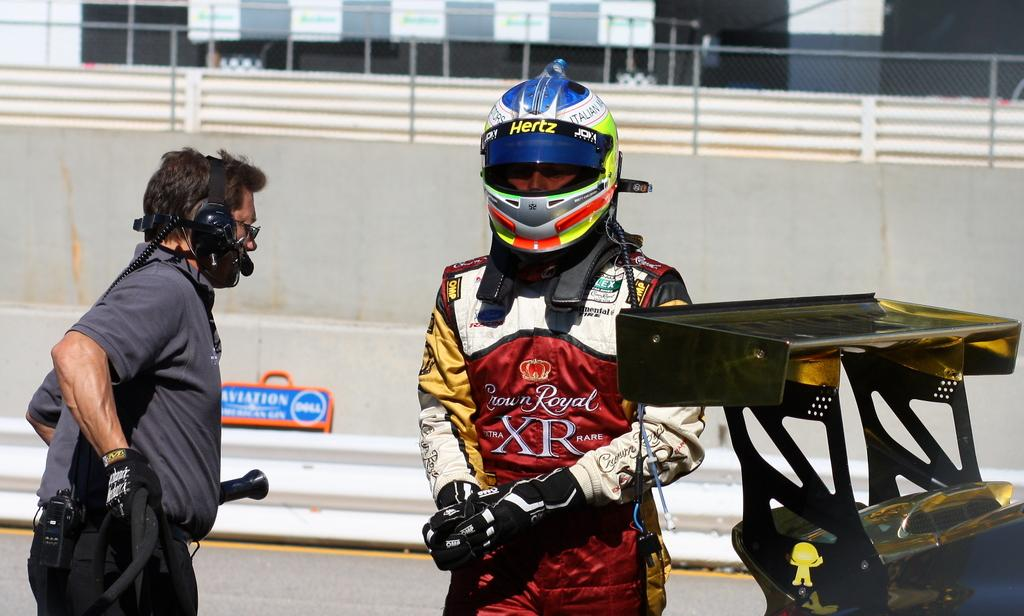helmet: (480, 58, 620, 255)
nohelmet: (140, 147, 267, 294)
